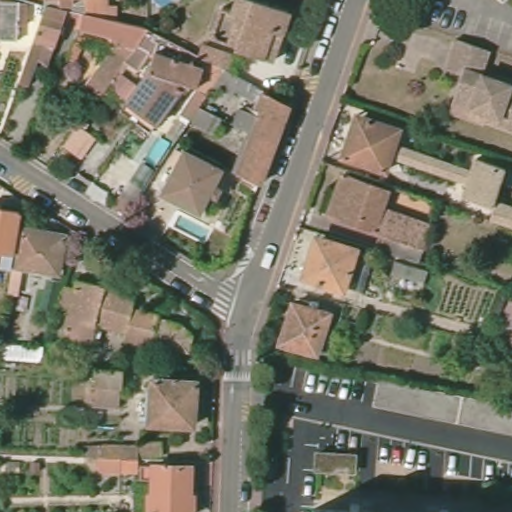pool: (169, 212, 213, 247), (143, 134, 171, 171)
